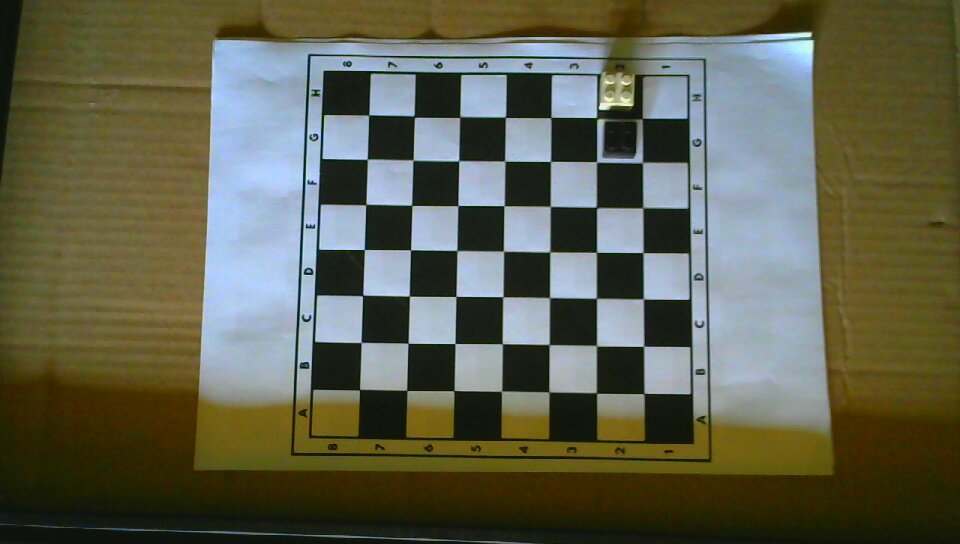bp: (602, 121, 636, 159)
wp: (597, 70, 635, 112)
